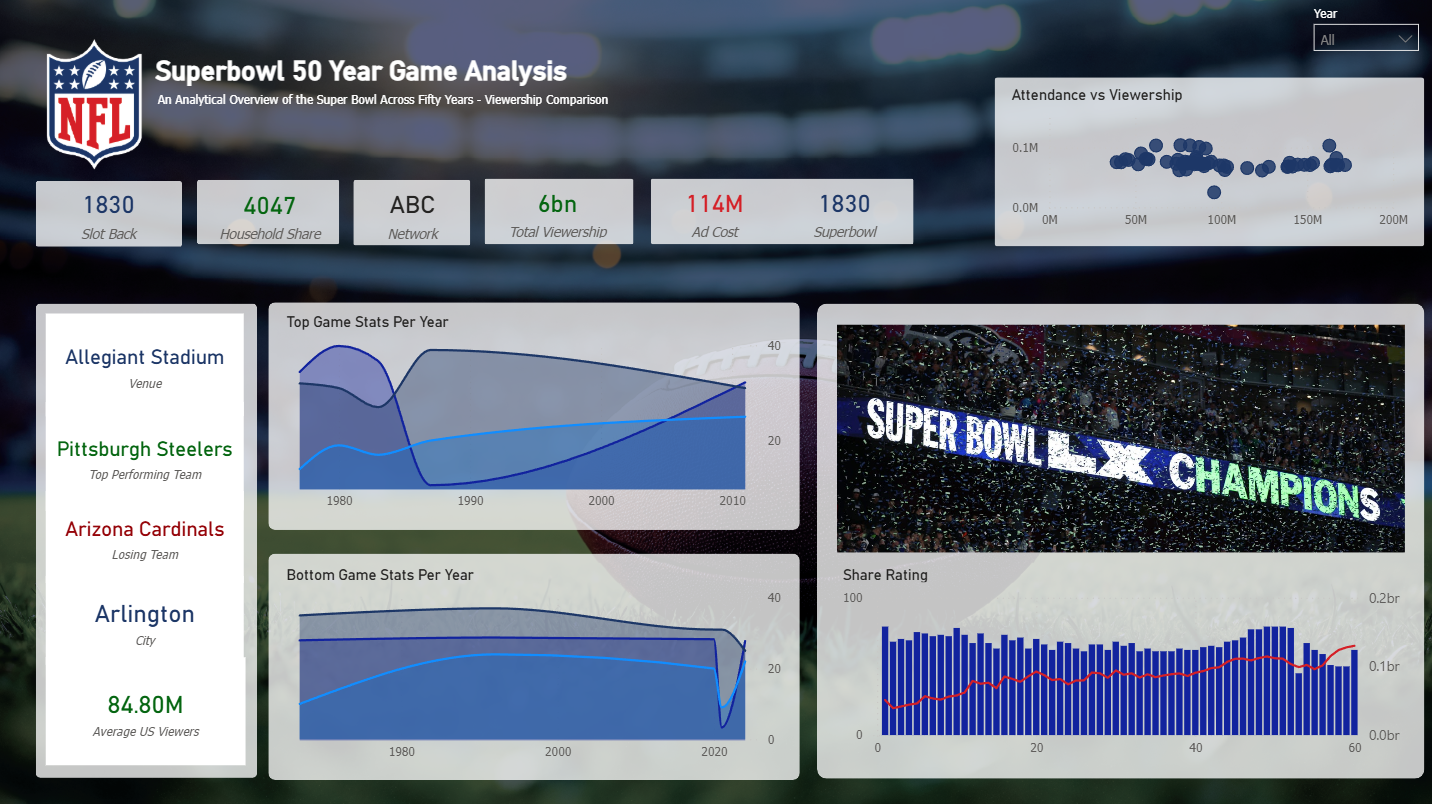

What the dashboard file says about the page in this screenshot:
{"tool":"powerbi","page":{"name":"Viewership Comparison","canvas":[1280,720],"ordinal":2},"visuals":[{"type":"image","box":[0,0,1280,721.2],"z":0},{"type":"textbox","box":[135.3,47.5,430.7,41.5],"z":1000},{"type":"shape","box":[34,272.9,196.8,421.7],"z":2000},{"type":"shape","box":[34,164,130,58.6],"z":3000},{"type":"slicer","fields":{"Values":["super_bowls_final.date.Variation.Date Hierarchy.Year"]},"box":[1165.4,19.9,103.1,36.3],"z":4000},{"type":"card","fields":{"Values":["Sum(superbowl_final_dates_fixed.SB)"]},"box":[39.8,162.8,118.3,58.6],"z":5000},{"type":"shape","box":[178.1,163.3,126.6,57.4],"z":6000},{"type":"card","fields":{"Values":["Sum(tv_final_fixed.share_household)"]},"box":[179.5,163.3,125.1,58.9],"z":7000},{"type":"shape","box":[317,163.8,104.2,58.6],"z":8000},{"type":"shape","box":[241.2,272.5,472.5,202.5],"z":9000},{"type":"card","fields":{"Values":["Min(tv_final_fixed.network)"]},"box":[326.4,163.8,85.5,58.6],"z":10000},{"type":"shape","box":[433.8,162.5,132.5,58.8],"z":11000},{"type":"card","fields":{"Values":["Sum(tv_final_fixed.total_us_viewers)"]},"box":[438.8,162.5,118.8,57.5],"z":12000},{"type":"textbox","box":[137.5,76.4,491.4,42.3],"z":13000},{"type":"card","fields":{"Values":["Measures_Table.Top Performing Team"]},"box":[43.8,361.2,176.2,96.2],"z":14000},{"type":"card","fields":{"Values":["Min(super_bowls_final.venue)"]},"box":[43.8,282.5,176.2,91.2],"z":15000},{"type":"card","fields":{"Values":["Min(super_bowls_final.city)"]},"box":[43.8,515,176.2,78.8],"z":16000},{"type":"card","fields":{"Values":["Min(super_bowls_final.team_loser)"]},"box":[43.8,440,176.2,81.2],"z":17000},{"type":"shape","box":[241.2,495,472.5,201.2],"z":18000},{"type":"shape","box":[728.8,273.8,540,422.5],"z":19000},{"type":"shape","box":[886.4,71.7,382.1,150.5],"z":20000},{"type":"textbox","box":[1165,0,103.5,37.6],"z":21000},{"type":"card","fields":{"Values":["Avg(tv_final_fixed.avg_us_viewers)"]},"box":[43.8,587.5,177.5,96.2],"z":22000},{"type":"scatterChart","title":"Attendance vs Viewership","fields":{"X":["Sum(tv_final_fixed.total_us_viewers)"],"Y":["super_bowls_final.attendance"],"Size":["CountNonNull(super_bowls_final.venue)"]},"box":[896.2,80,362.5,135],"z":23000},{"type":"shape","box":[581.2,162.5,233.8,58.8],"z":24000},{"type":"card","fields":{"Values":["Sum(tv_final_fixed.ad_cost)"]},"box":[576.2,162.5,122.5,58.8],"z":25000},{"type":"areaChart","title":"Top Game Stats Per Year","fields":{"Category":["super_bowls_final.Date.Variation.Date Hierarchy.Year"],"Y":["Sum(super_bowls_final.attendance)"],"Y2":["Sum(super_bowls_final.losing_pts)","Sum(super_bowls_final.winning_pts)"]},"box":[252.5,282.5,450,182.5],"z":26000},{"type":"areaChart","title":"Bottom Game Stats Per Year","fields":{"Category":["super_bowls_final.Date.Variation.Date Hierarchy.Year"],"Y":["Sum(super_bowls_final.attendance)"],"Y2":["Sum(super_bowls_final.losing_pts)","Sum(super_bowls_final.winning_pts)"]},"box":[252.5,506.2,450,181.2],"z":27000},{"type":"card","fields":{"Values":["Sum(super_bowls_final.super_bowl)"]},"box":[692.5,162.5,122.5,58.8],"z":28000},{"type":"lineClusteredColumnComboChart","title":"Share Rating","fields":{"Category":["tv_final_fixed.super_bowl"],"Y":["Sum(tv_final_fixed.share_18_49)"],"Y2":["Sum(tv_final_fixed.avg_us_viewers)"]},"box":[746.2,506.2,505,177.5],"z":29000},{"type":"image","box":[746.2,292.5,505,202.5],"z":30000}]}

Visuals, with their boxes in screenshot pixels (x1, y1, x2, y2), scaled from the page's 1280x720 canvas onto the 1432x804 screenshot:
image: box(0, 0, 1431, 803)
textbox: box(151, 53, 633, 99)
shape: box(38, 305, 258, 776)
shape: box(38, 183, 183, 249)
slicer - super_bowls_final.date.Variation.Date Hierarchy.Year: box(1304, 22, 1419, 63)
card - Sum(superbowl_final_dates_fixed.SB): box(45, 182, 177, 247)
shape: box(199, 182, 341, 246)
card - Sum(tv_final_fixed.share_household): box(201, 182, 341, 248)
shape: box(355, 183, 471, 248)
shape: box(270, 304, 798, 530)
card - Min(tv_final_fixed.network): box(365, 183, 461, 248)
shape: box(485, 181, 634, 247)
card - Sum(tv_final_fixed.total_us_viewers): box(491, 181, 624, 246)
textbox: box(154, 85, 704, 133)
card - Measures_Table.Top Performing Team: box(49, 403, 246, 511)
card - Min(super_bowls_final.venue): box(49, 315, 246, 417)
card - Min(super_bowls_final.city): box(49, 575, 246, 663)
card - Min(super_bowls_final.team_loser): box(49, 491, 246, 582)
shape: box(270, 553, 798, 777)
shape: box(815, 306, 1419, 778)
shape: box(992, 80, 1419, 248)
textbox: box(1303, 0, 1419, 42)
card - Avg(tv_final_fixed.avg_us_viewers): box(49, 656, 248, 763)
"Attendance vs Viewership" scatterChart: box(1003, 89, 1408, 240)
shape: box(650, 181, 912, 247)
card - Sum(tv_final_fixed.ad_cost): box(645, 181, 782, 247)
"Top Game Stats Per Year" areaChart: box(282, 315, 786, 519)
"Bottom Game Stats Per Year" areaChart: box(282, 565, 786, 768)
card - Sum(super_bowls_final.super_bowl): box(775, 181, 912, 247)
"Share Rating" lineClusteredColumnComboChart: box(835, 565, 1400, 763)
image: box(835, 327, 1400, 553)
